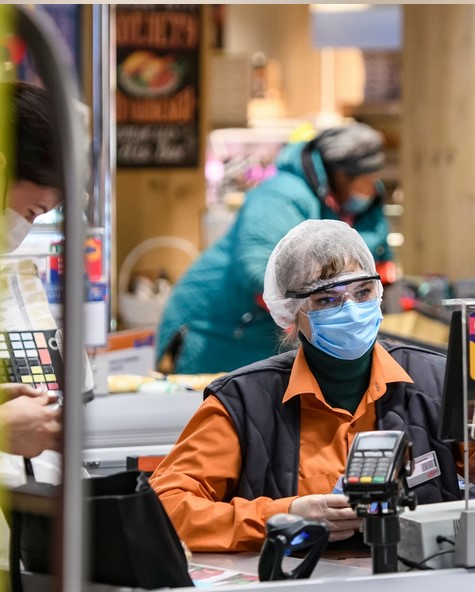face_with_mask: (276, 228, 391, 364), (3, 82, 66, 258), (320, 119, 382, 219)
